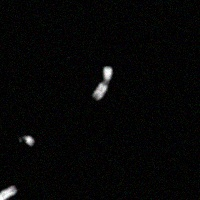chromosome: (94, 66, 112, 100), (0, 185, 16, 200), (20, 135, 34, 145)
